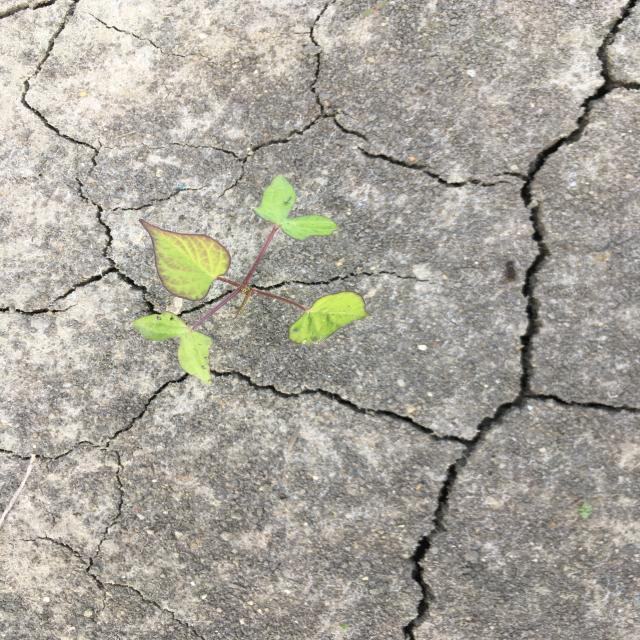MorningGlory: (128, 172, 376, 388)
